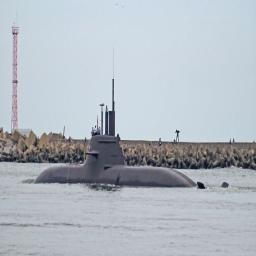submarine: (36, 52, 240, 191)
